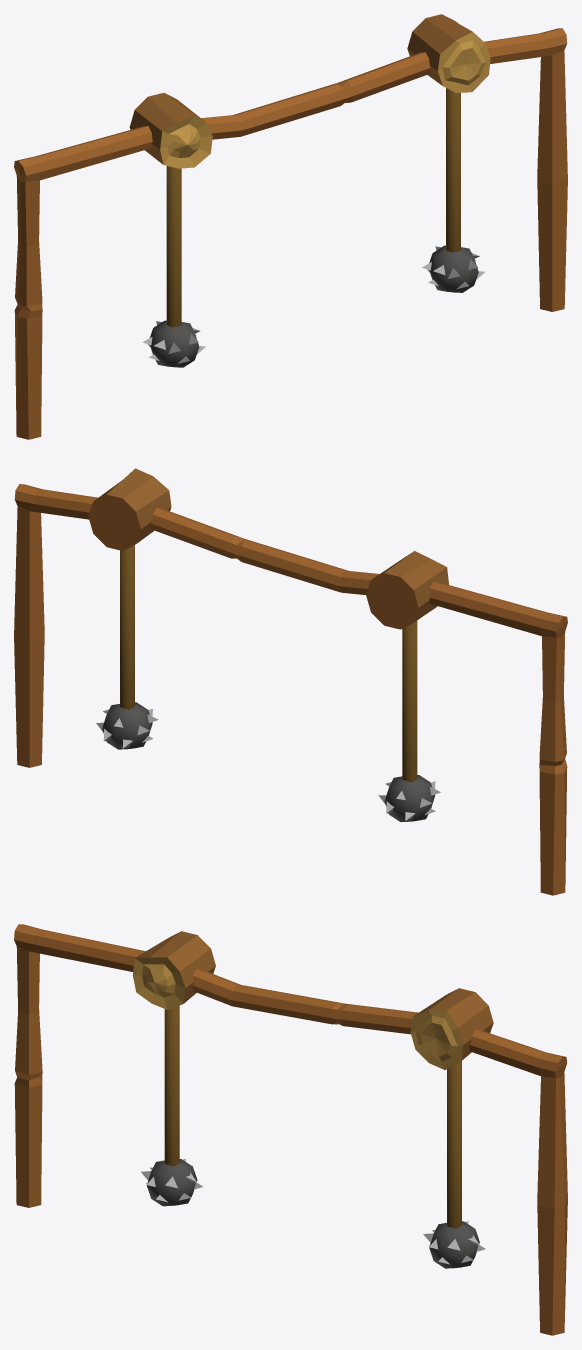
The model's file is Trap_1.001.fbx.
3 renders of one model, top to bottom at view 1: azimuth 30°, elevation 25°; view 2: azimuth 150°, elevation 25°; view 3: azimuth 330°, elevation 25°, orthographic.
Visible parts, largest first — view 1: Trap_1, Trap_1_1, Trap_1_2; view 2: Trap_1, Trap_1_1, Trap_1_2; view 3: Trap_1, Trap_1_1, Trap_1_2.
Boxes of the visible parts, x1,y1,x2,y2 form: Trap_1: [14, 14, 567, 439]; Trap_1_1: [142, 166, 205, 367]; Trap_1_2: [422, 88, 485, 292]; Trap_1: [14, 468, 567, 895]; Trap_1_1: [378, 620, 440, 821]; Trap_1_2: [96, 545, 158, 749]; Trap_1: [14, 924, 567, 1335]; Trap_1_1: [141, 1005, 203, 1206]; Trap_1_2: [423, 1061, 485, 1268].
Size of the model in its own units: 15.22 by 8.13 by 1.67.
